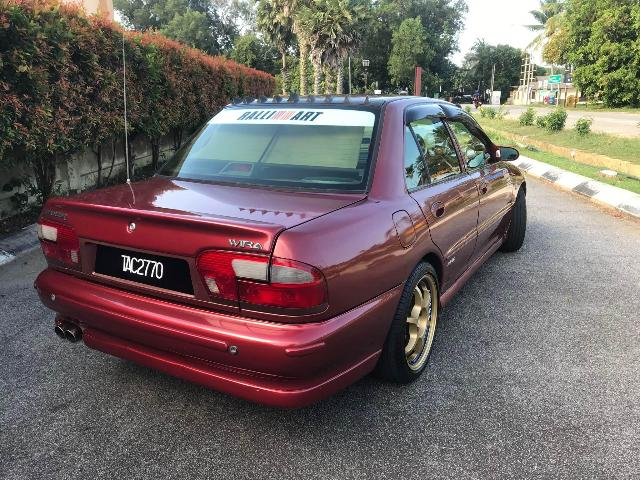License_Plate: (101, 249, 178, 290)
car: (24, 92, 535, 409)
